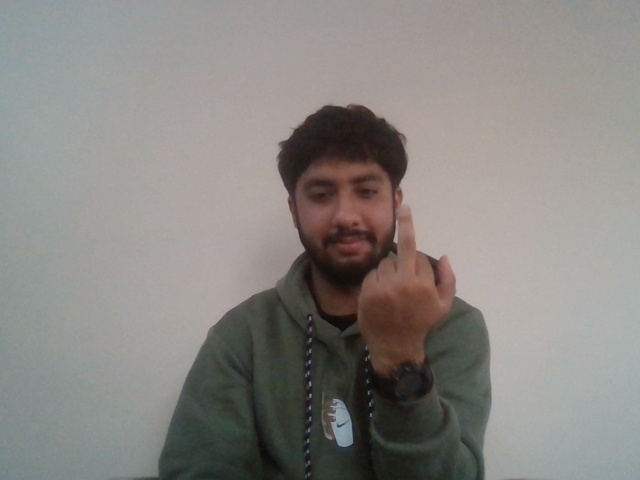Hello: (359, 206, 462, 346)
